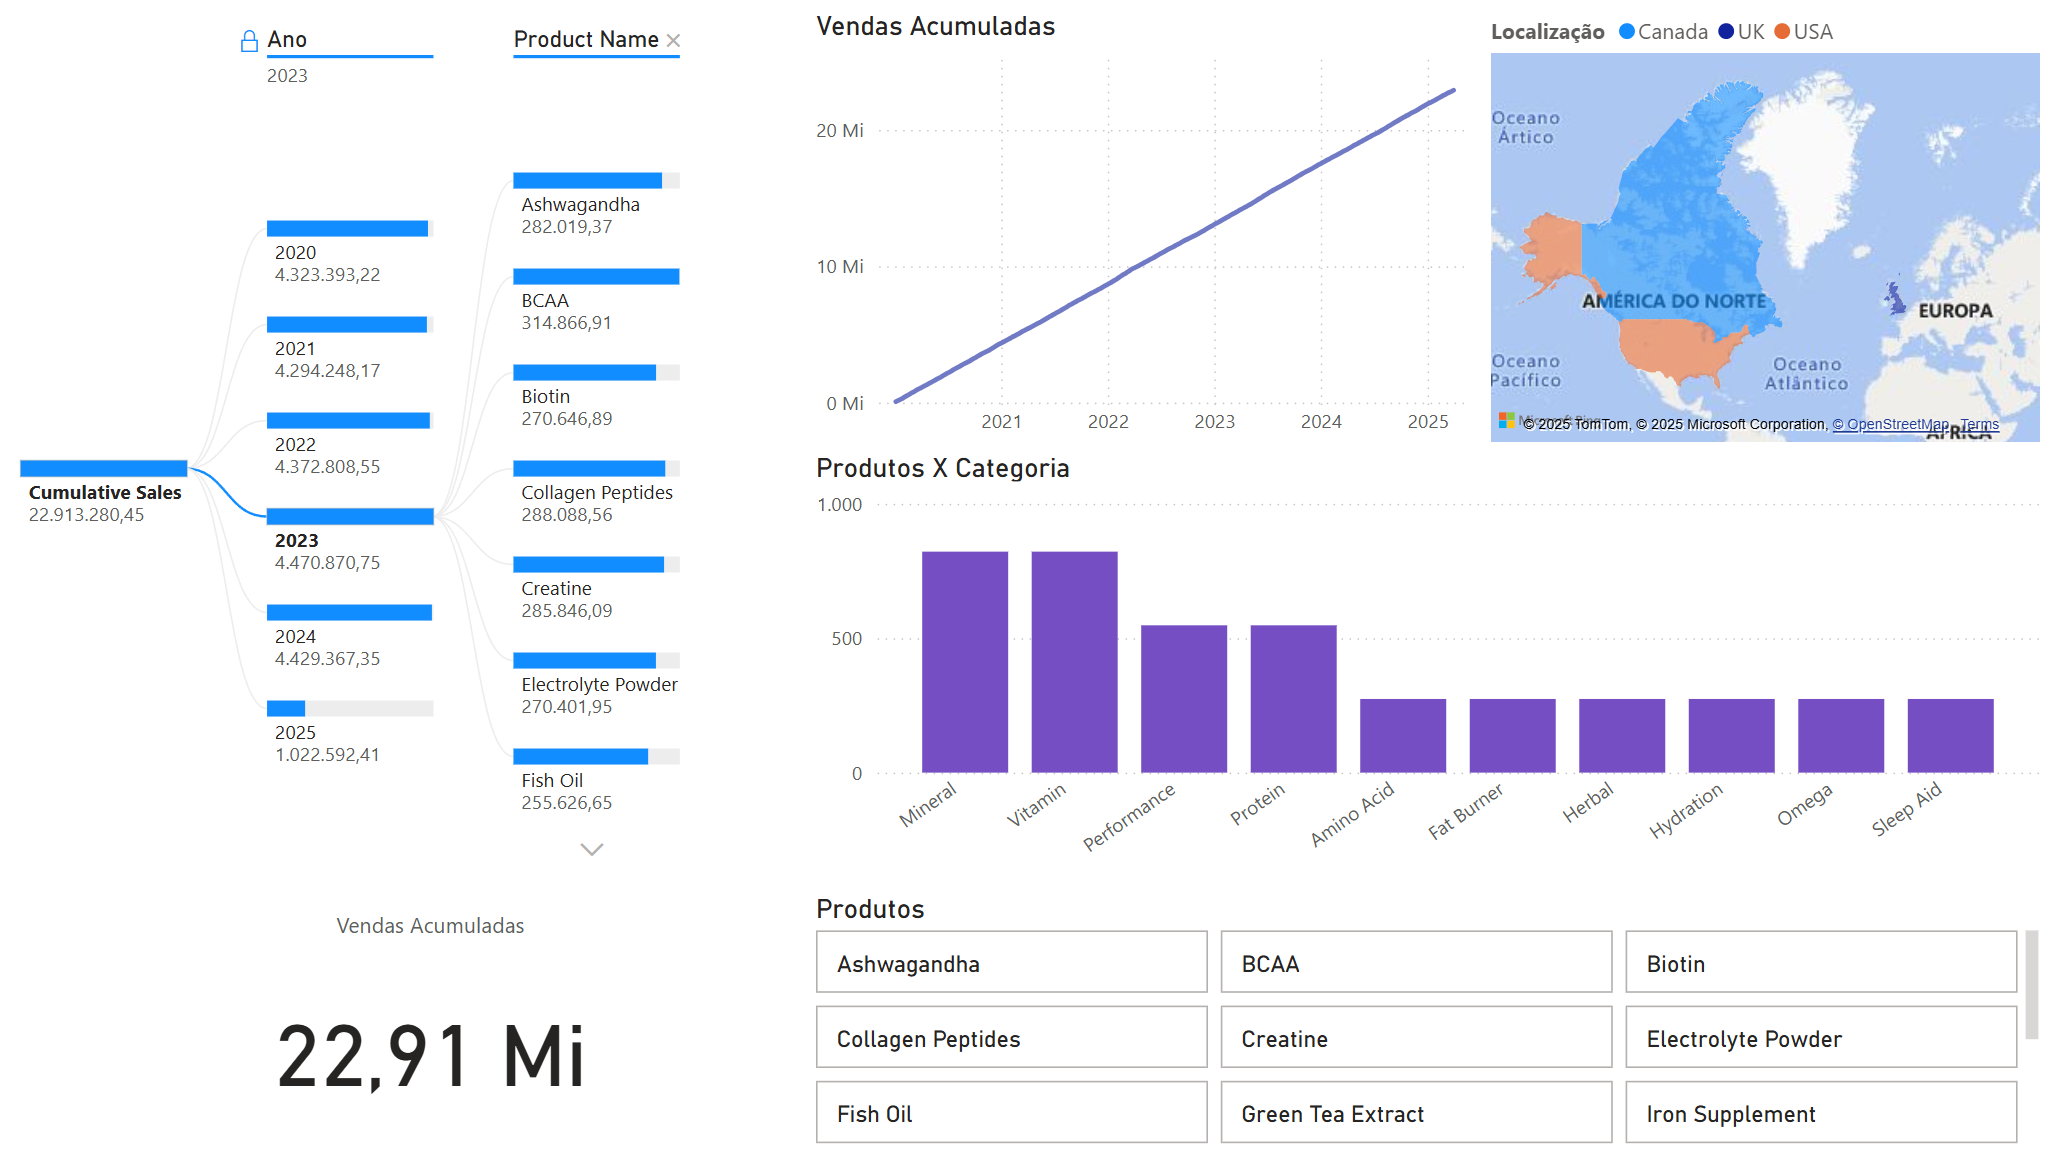

What the dashboard file says about the page in this screenshot:
{"tool":"powerbi","page":{"name":"Página 1","canvas":[1280,720],"ordinal":0},"visuals":[{"type":"columnChart","title":"Produtos X Categoria","fields":{"Category":["Supplement_Sales_Weekly_Expanded.Category"],"Y":["CountNonNull(Supplement_Sales_Weekly_Expanded.Product Name)"]},"box":[505.5,282.8,774.7,275],"z":0},{"type":"lineChart","title":"Vendas Acumuladas","fields":{"Category":["Supplement_Sales_Weekly_Expanded.Date"],"Y":["Supplement_Sales_Weekly_Expanded.Cumulative Sales"]},"box":[505.6,6.2,421.9,276.2],"z":2},{"type":"decompositionTreeVisual","fields":{"Analyze":["Supplement_Sales_Weekly_Expanded.Cumulative Sales"],"ExplainBy":["Supplement_Sales_Weekly_Expanded.Date.Variation.Hierarquia de datas.Ano","Supplement_Sales_Weekly_Expanded.Product Name"]},"box":[0,0,505.5,565],"z":4},{"type":"card","fields":{"Values":["Supplement_Sales_Weekly_Expanded.Cumulative Sales"]},"box":[119.4,565,315,155],"z":5},{"type":"advancedSlicerVisual","title":"Produtos","fields":{"Values":["Supplement_Sales_Weekly_Expanded.Product Name"]},"box":[505.5,557.8,774.7,162.2],"z":6},{"type":"filledMap","title":"Localização","fields":{"Series":["Supplement_Sales_Weekly_Expanded.Location"],"Category":["Supplement_Sales_Weekly_Expanded.Location"]},"box":[927.3,0,352.9,282.8],"z":7}]}

Visuals, with their boxes in screenshot pixels (x1, y1, x2, y2), scaled from the page's 1280x720 canvas onto the 2045x1149 screenshot:
"Produtos X Categoria" columnChart: (808, 451, 2044, 890)
"Vendas Acumuladas" lineChart: (808, 10, 1482, 451)
decompositionTreeVisual - Supplement_Sales_Weekly_Expanded.Cumulative Sales x Supplement_Sales_Weekly_Expanded.Date.Variation.Hierarquia de datas.Ano: (0, 0, 808, 902)
card - Supplement_Sales_Weekly_Expanded.Cumulative Sales: (191, 902, 694, 1148)
"Produtos" advancedSlicerVisual: (808, 890, 2044, 1148)
"Localização" filledMap: (1482, 0, 2044, 451)
